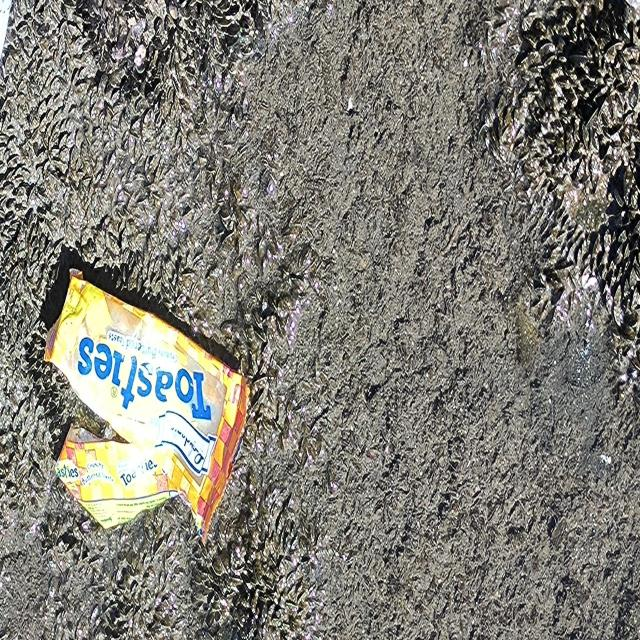litter: (42, 276, 248, 544)
